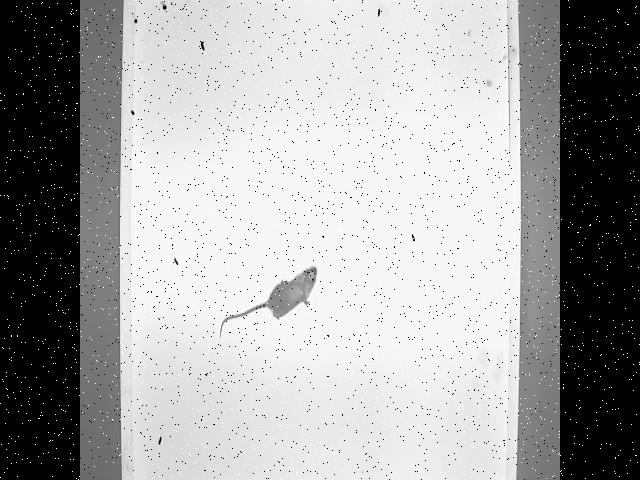Tikus: (214, 260, 322, 344)
